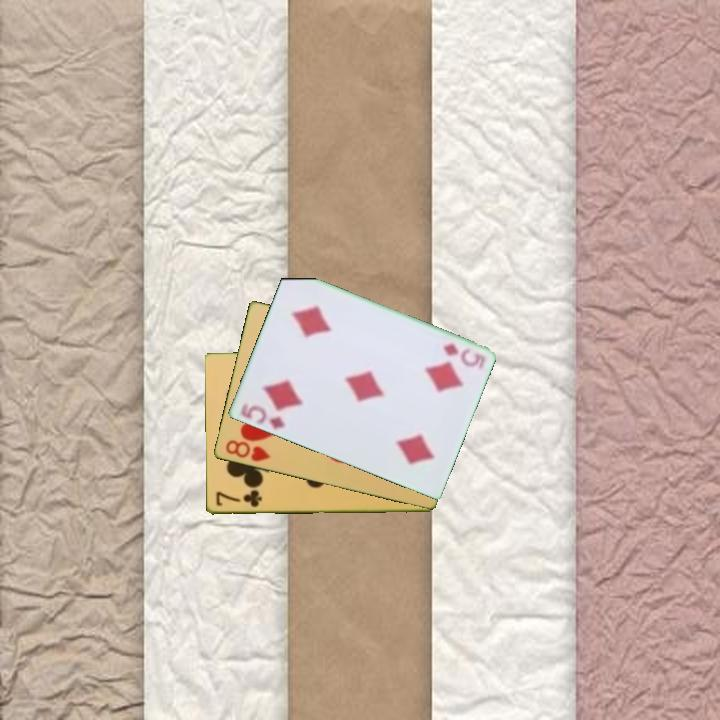5d: (236, 399, 288, 432), (439, 340, 479, 367)
7c: (212, 488, 264, 510)
8h: (222, 436, 273, 465)
